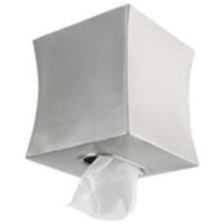plastic_box: (18, 0, 203, 187)
tissue: (60, 150, 144, 223)
